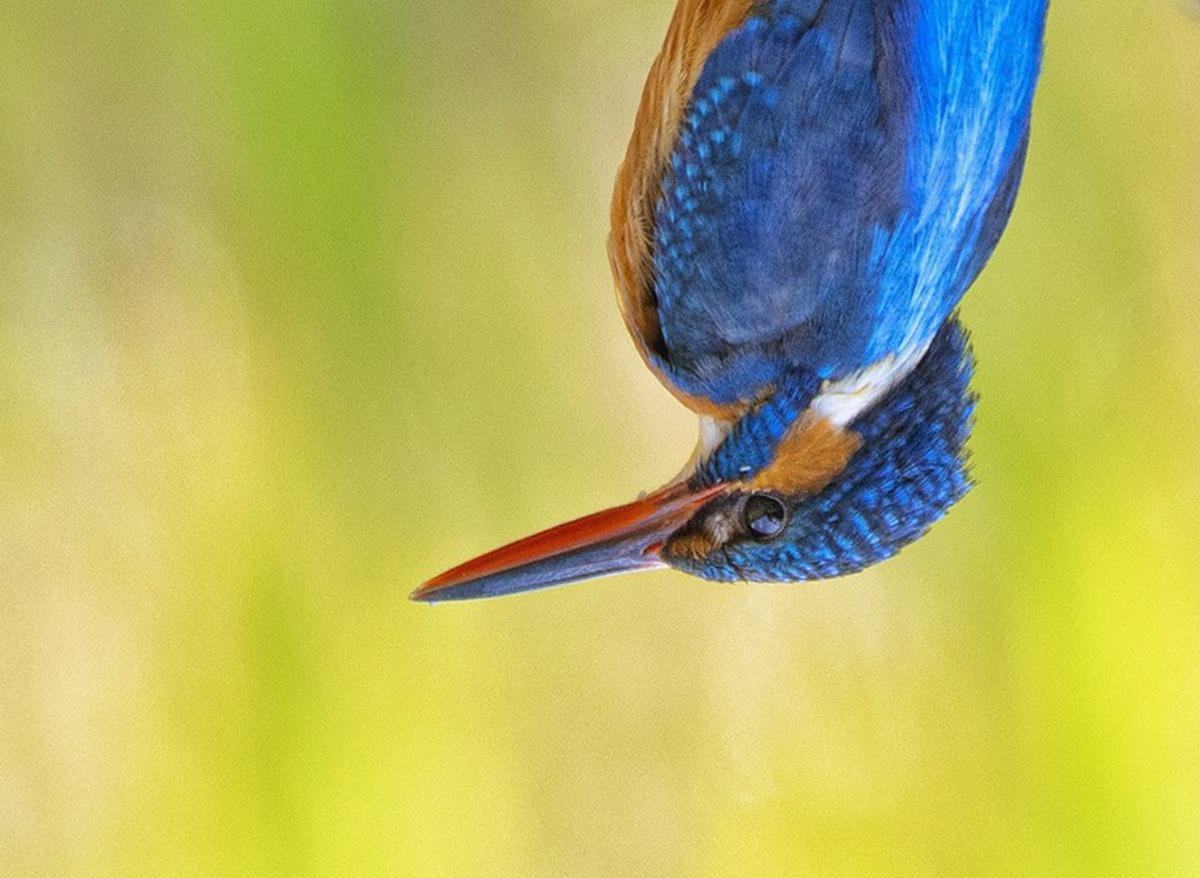kingfisher: (411, 1, 1073, 628)
